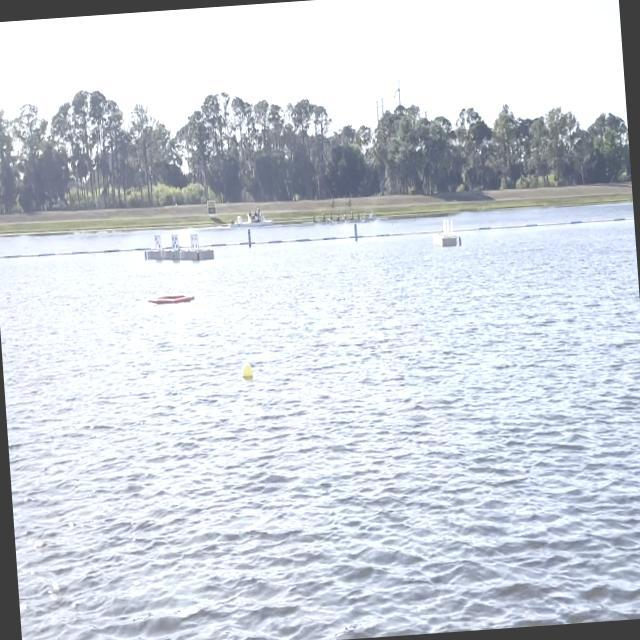buoy: (240, 361, 253, 377)
